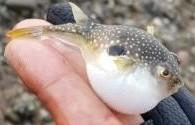fish: (6, 2, 182, 115)
